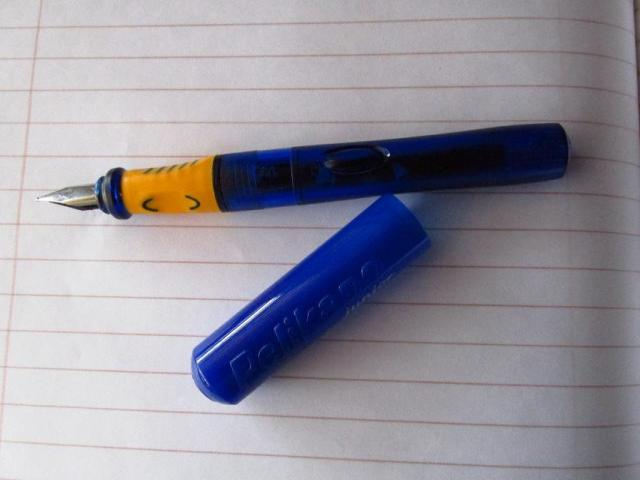PEN: (25, 120, 586, 398)
